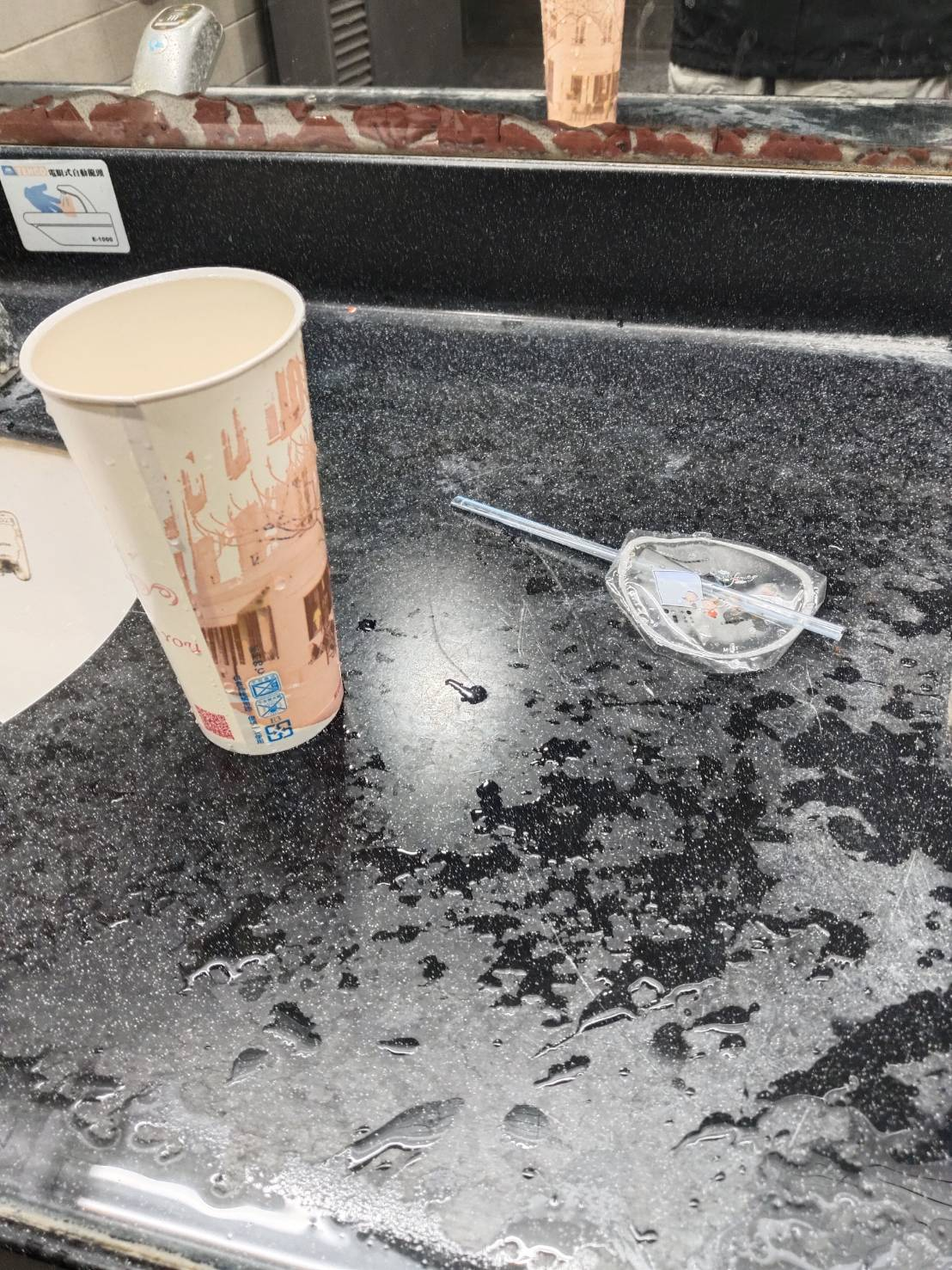paper: (17, 240, 431, 810)
plastic: (454, 431, 895, 707)
